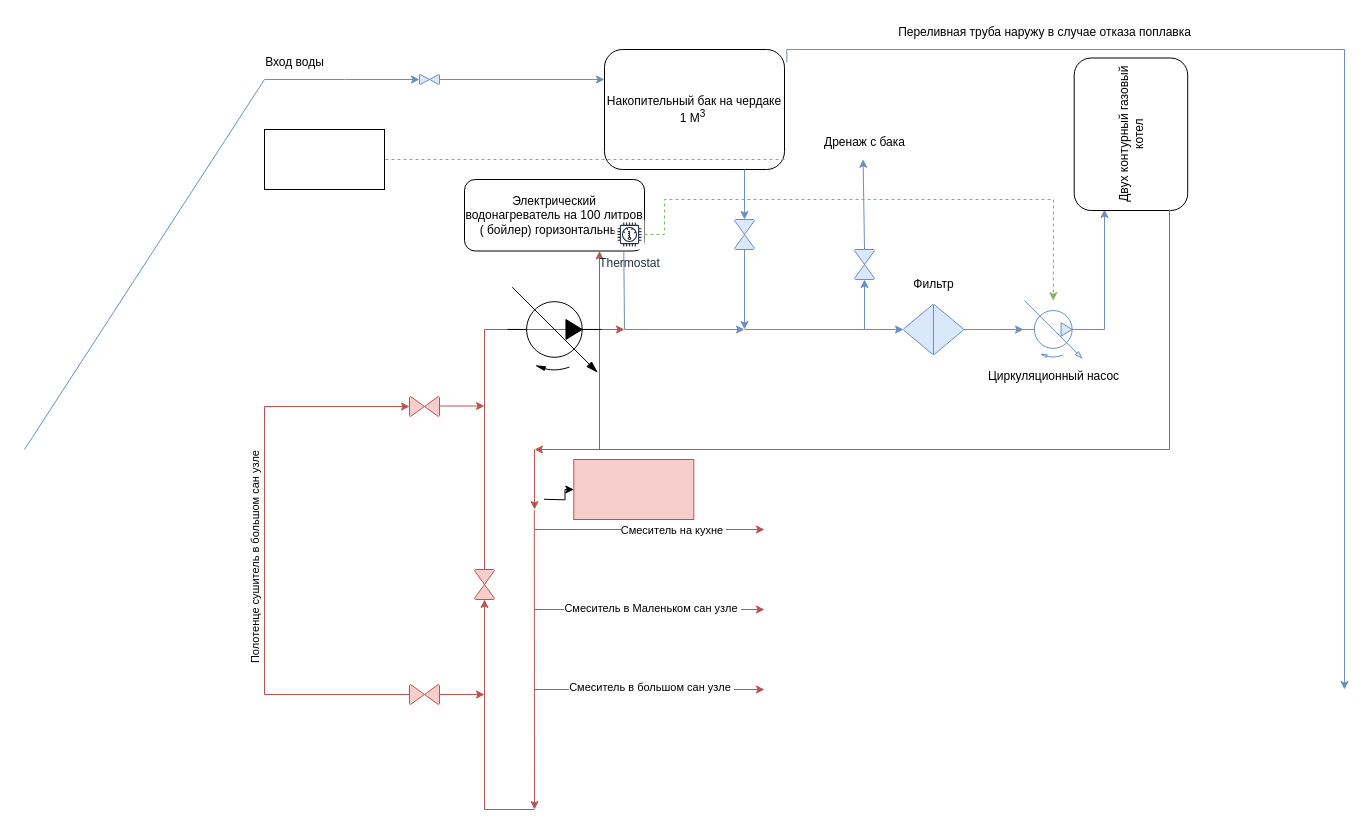
Image size: 1370x835. Some labels were removed from this diagram. The centre of each missing label's shape, as x and y in pixels:
Нагревательный кабель: the point at 324,159
Циркуляционный насос горячего водоснабжения: the point at 633,489
